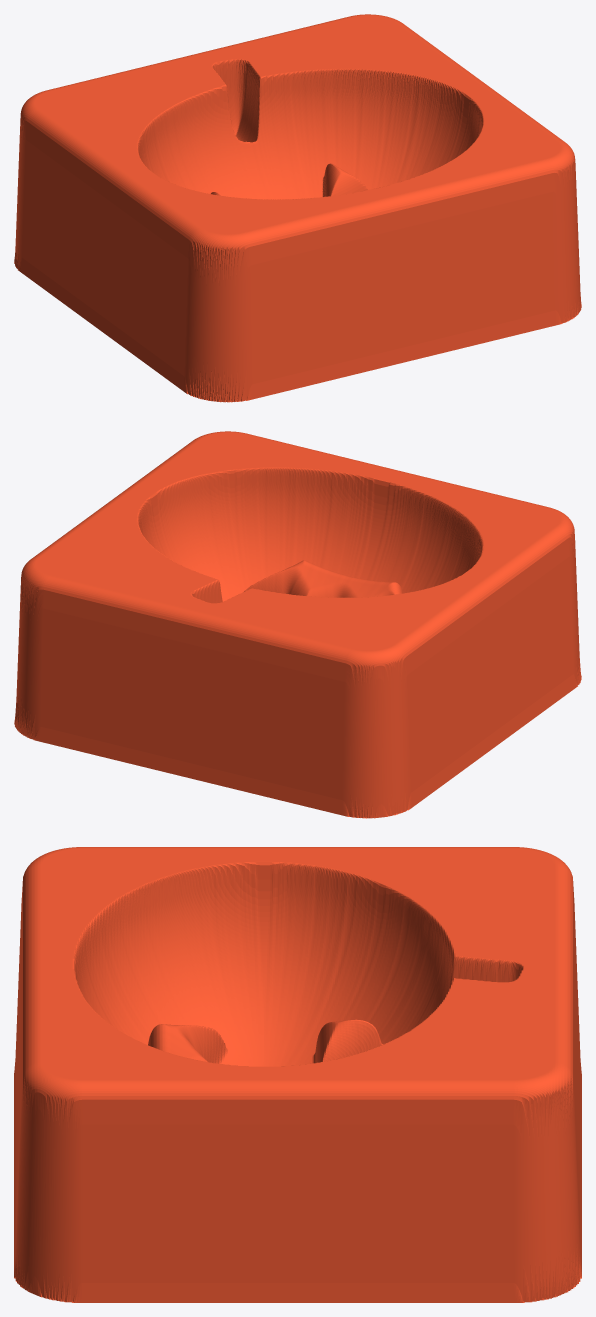
The model's file is mold.glb.
3 views of the same model, one above another, from view 1: azimuth 30°, elevation 25°; view 2: azimuth 150°, elevation 25°; view 3: azimuth 270°, elevation 25° (orthographic). The views are drawn at different scales.
Visible parts, largest first — view 1: geometry_0; view 2: geometry_0; view 3: geometry_0.
Boxes of the visible parts, <box> form: geometry_0: <box>14,14,581,402</box>; geometry_0: <box>14,431,581,818</box>; geometry_0: <box>14,847,581,1302</box>.
Size of the model in its own units: 0.0798 by 0.031 by 0.0754.
